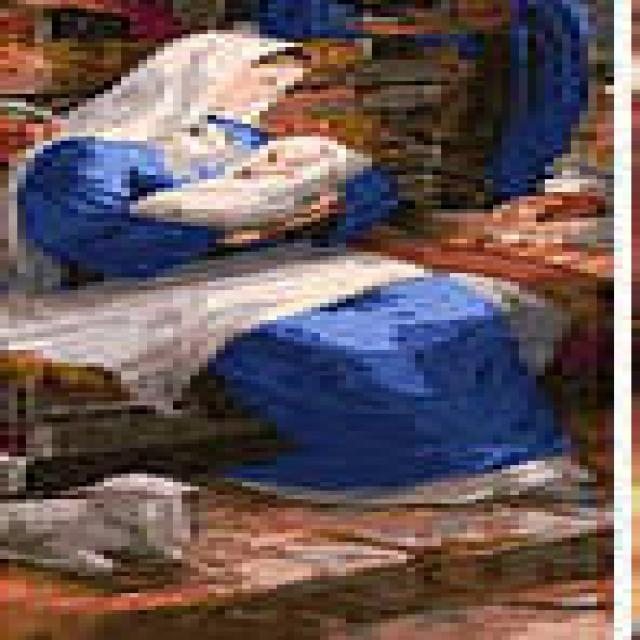mother of god: (0, 28, 640, 505)
